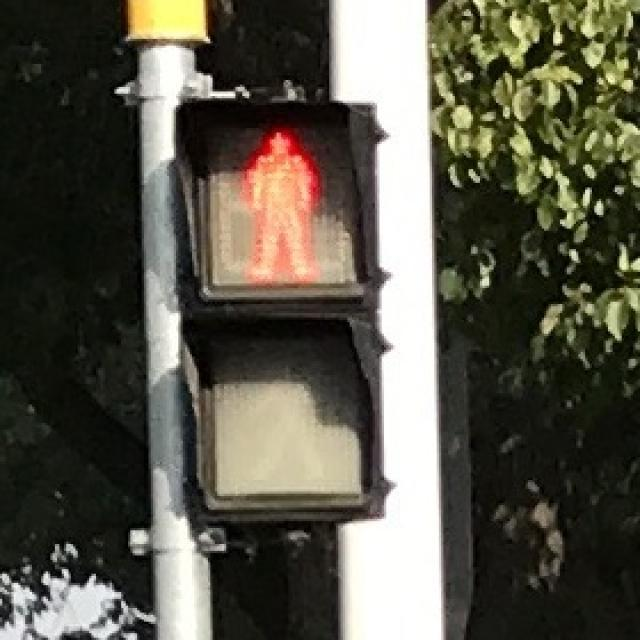red-crossing: (196, 107, 362, 290)
